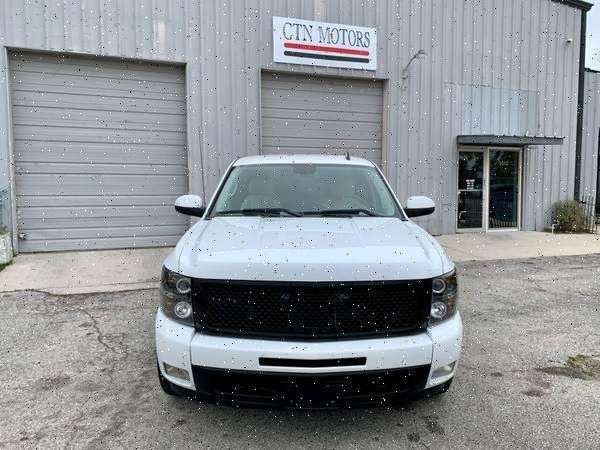Front_Bumper: (153, 307, 462, 410)
Front_Windshield: (206, 162, 406, 219)
Grille: (191, 276, 433, 340)
Hood: (164, 215, 455, 281)
Left_Headlight: (159, 260, 195, 324)
Left_Mirror: (405, 193, 436, 217)
Right_Headlight: (429, 264, 459, 325)
Right_Mirror: (173, 194, 205, 217)
Roof: (232, 151, 375, 164)
